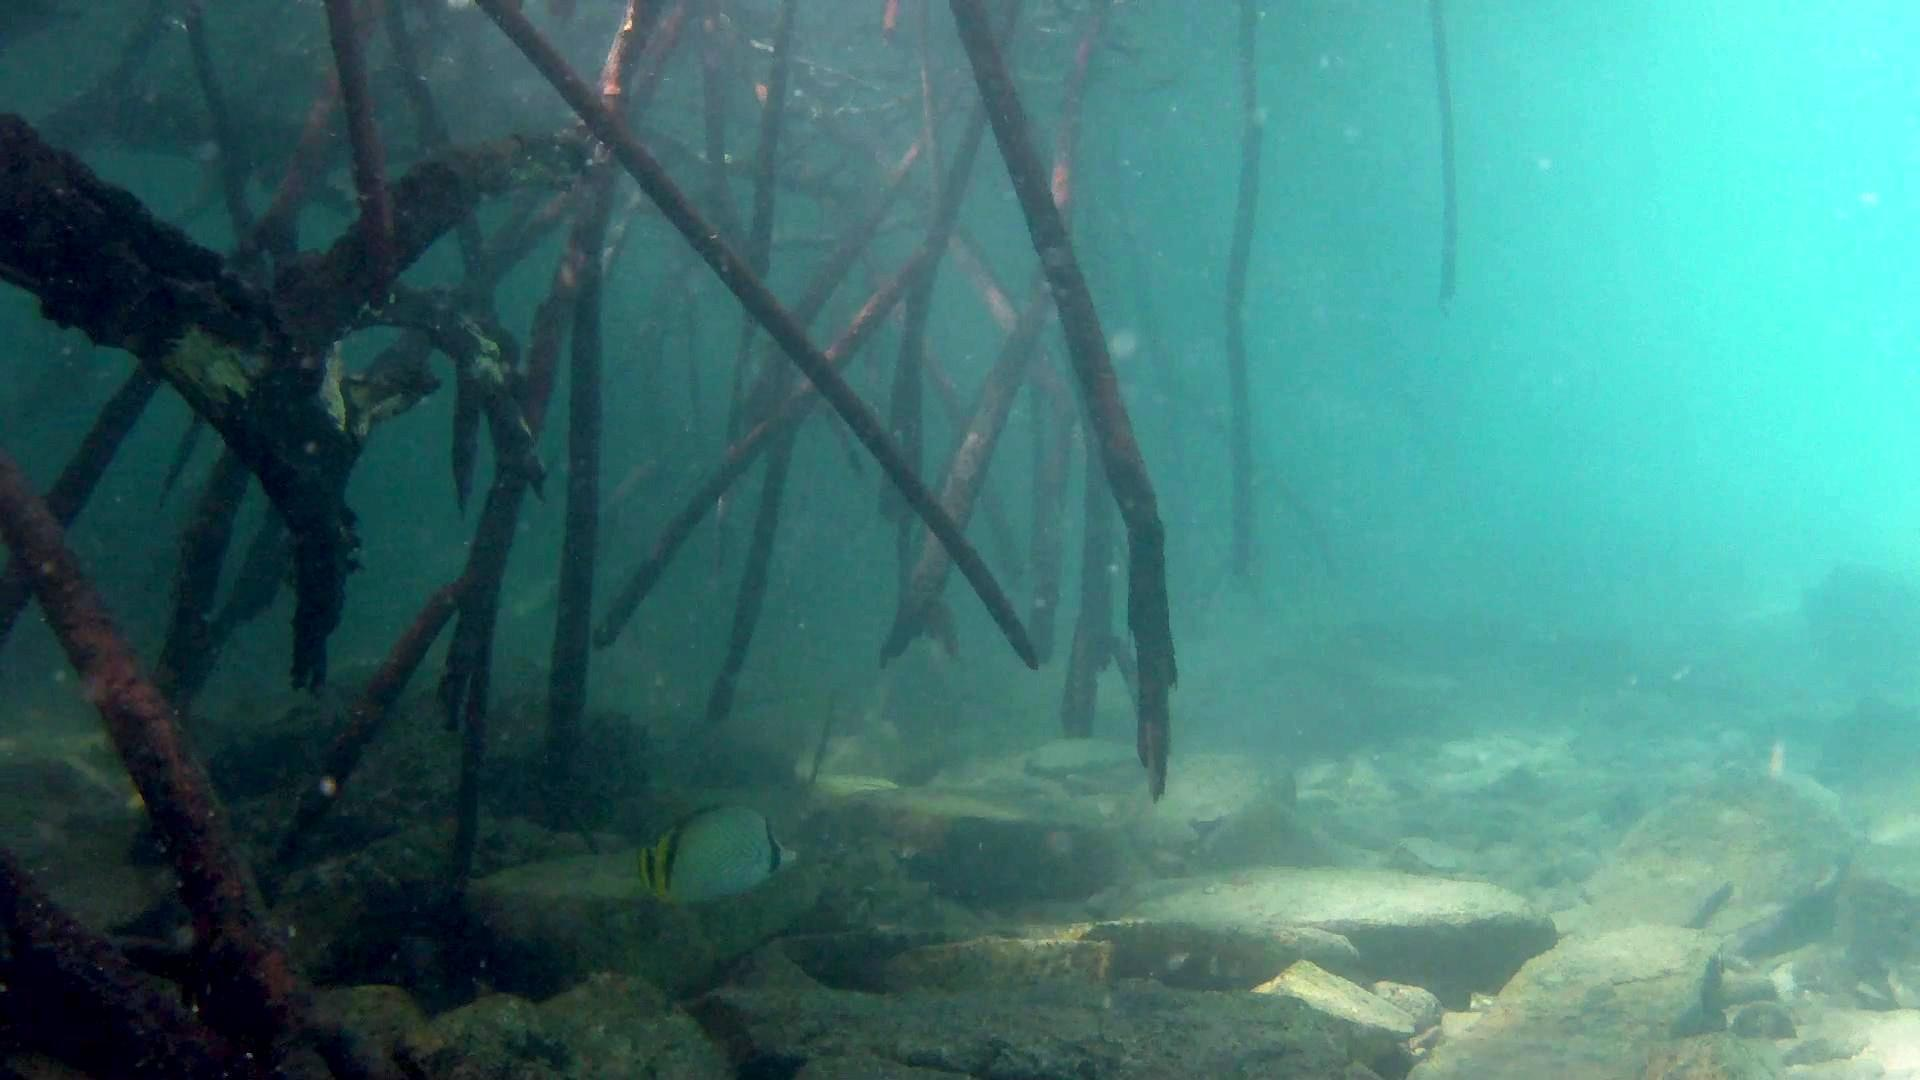chaetodon vagabundus: (629, 798, 803, 907)
